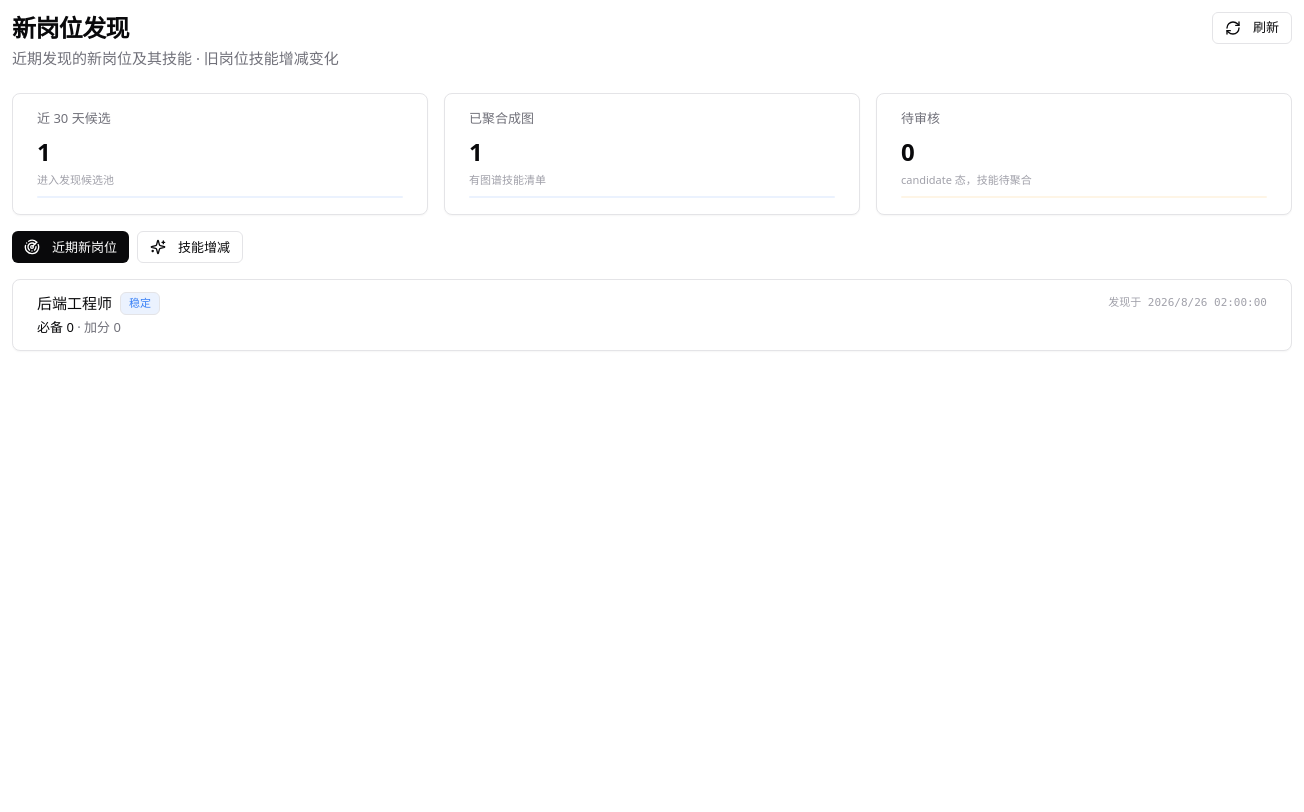
DiscoveryPage › 切到技能增减 Tab → 自动加载快照对比并显示岗位下拉
Expected: the text "后端工程师" is shown, [37,293,112,314]
Click the button "技能增减" at (190,247), box [137,231,243,263]
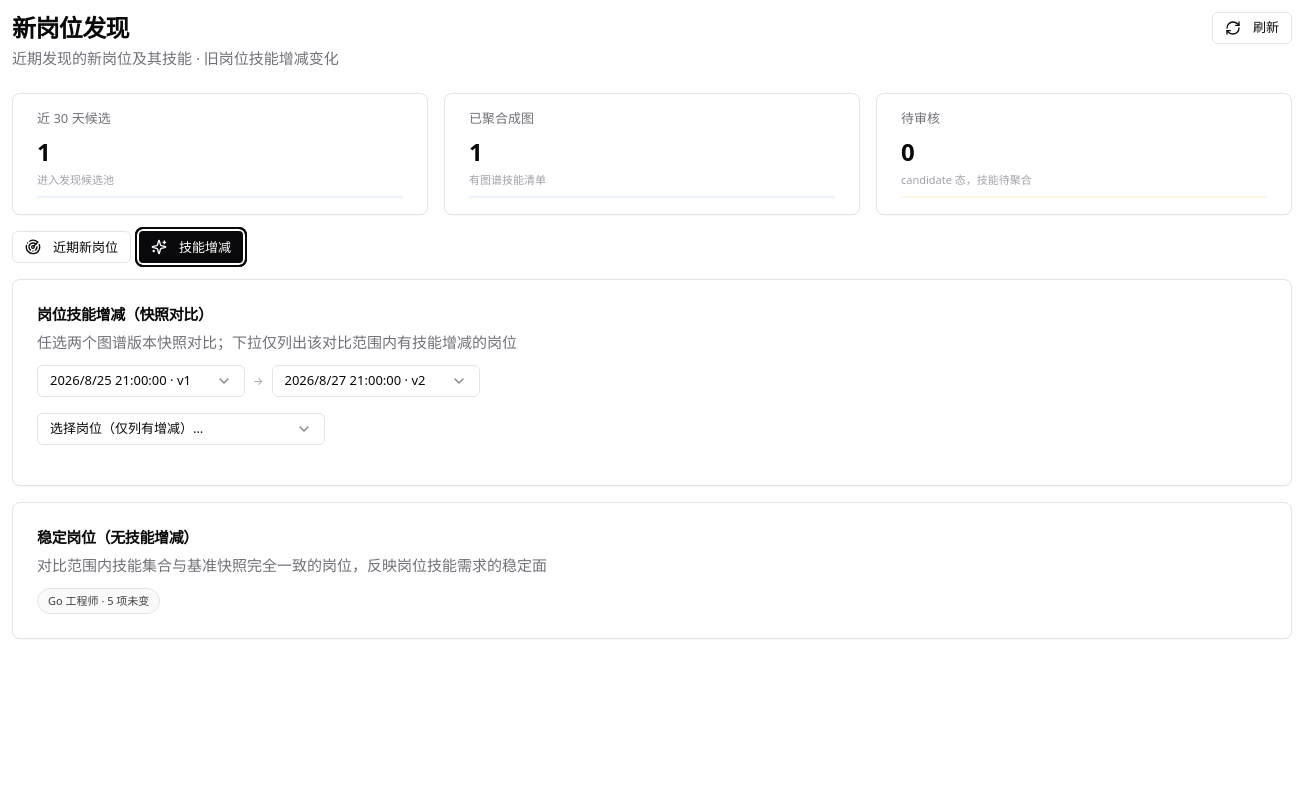
Expected: the heading "岗位技能增减（快照对比）" is shown, [37,304,212,324]
Expected: the text "选择岗位（仅列有增减）…" is shown, [50,420,203,438]
Expected: the dropdown named "起始快照" is shown, [37,365,245,397]
